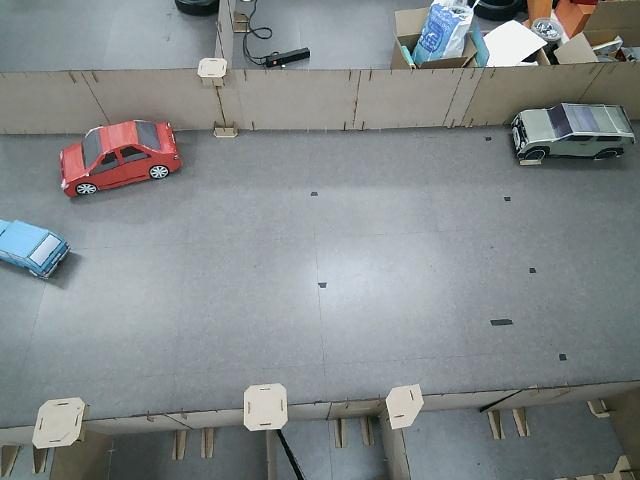car: (49, 113, 194, 202), (501, 99, 640, 171), (0, 209, 73, 286)
